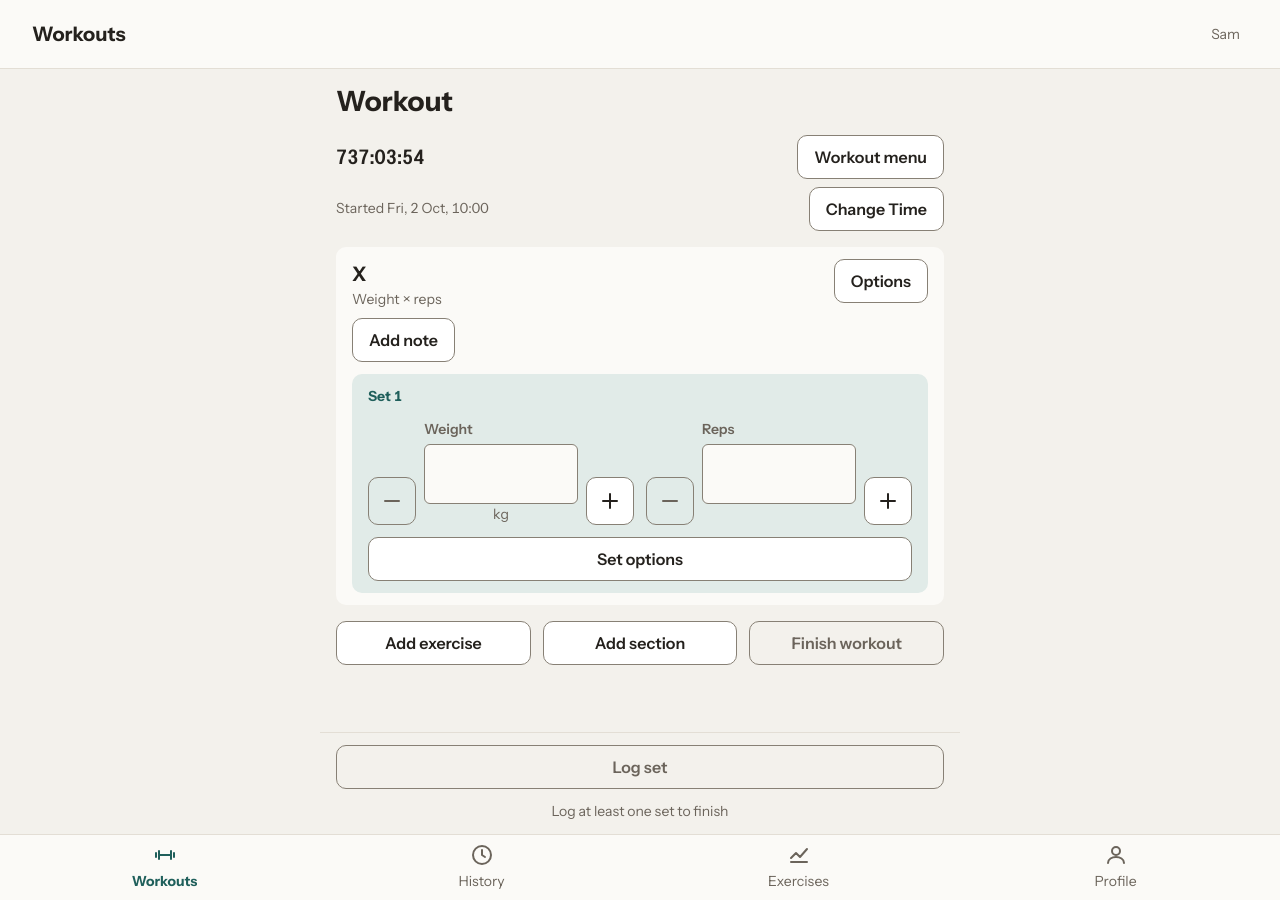
Test: AC21 — entry row fields per modality › weight_reps shows exactly its measures and no forbidden one
Expected: the heading "Workout" is shown, [336,84,453,118]
Click the button "Set options" at point(640, 559), box [368,537,912,581]
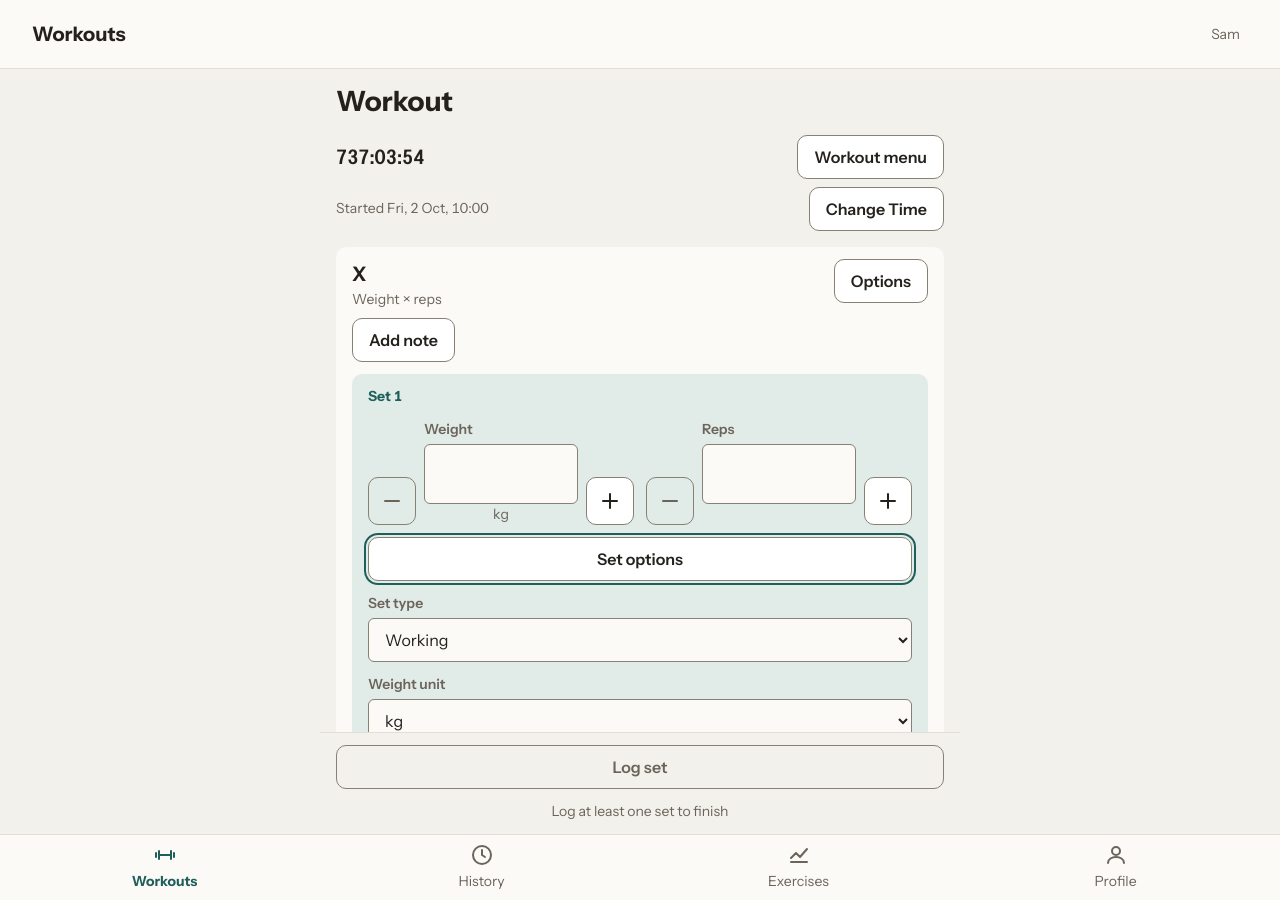
Expected: the field labelled "Weight" is shown, [424,444,578,504]
Now the dropdown labelled "Weight unit" is shown, box [368,699,912,743]
